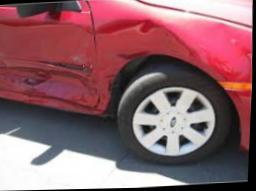Door: (0, 55, 98, 107)
Fender: (96, 8, 203, 110)
